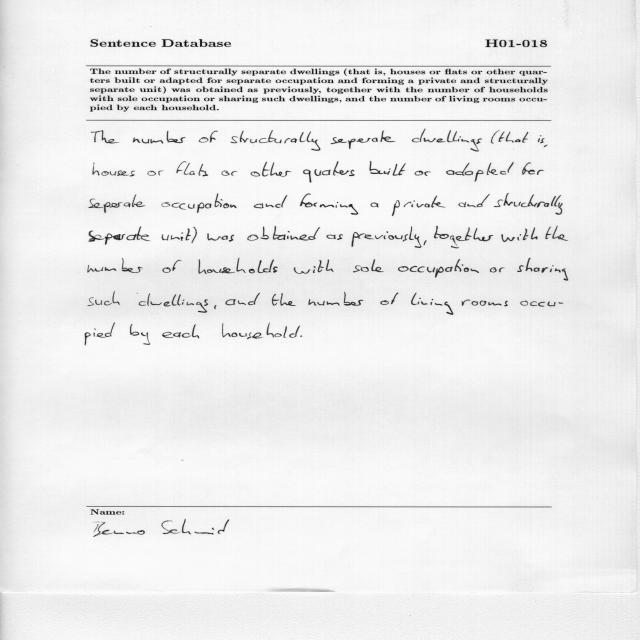word: (231, 130, 321, 151), (412, 129, 482, 151), (352, 226, 422, 248), (398, 259, 479, 278), (494, 193, 563, 215), (162, 193, 237, 213), (137, 293, 208, 313), (434, 226, 493, 248), (446, 162, 514, 181), (198, 258, 278, 274), (300, 193, 358, 215), (222, 323, 300, 339), (517, 258, 569, 281), (330, 131, 396, 149), (89, 226, 150, 245), (303, 161, 355, 183), (247, 226, 320, 241), (89, 194, 145, 213), (392, 196, 445, 216), (411, 293, 454, 315), (88, 258, 143, 273), (309, 292, 364, 306), (85, 323, 115, 346), (93, 162, 135, 177), (133, 131, 185, 143), (251, 162, 292, 177), (294, 259, 334, 274), (369, 161, 406, 176), (162, 324, 199, 339), (502, 227, 538, 242), (176, 161, 208, 177), (88, 292, 120, 306), (254, 195, 287, 208), (225, 293, 260, 305), (130, 324, 150, 345), (458, 194, 490, 207), (353, 260, 384, 273), (92, 130, 120, 144), (546, 226, 568, 241), (272, 293, 296, 306), (522, 162, 544, 175), (462, 300, 508, 306), (521, 301, 564, 307), (163, 260, 182, 273), (380, 292, 399, 305), (207, 233, 234, 242), (506, 132, 528, 143), (199, 131, 218, 143), (162, 232, 183, 241), (186, 227, 197, 243), (491, 131, 504, 144), (327, 234, 343, 240), (147, 171, 164, 176), (415, 171, 431, 176), (222, 171, 237, 176), (490, 268, 505, 273), (538, 136, 544, 144), (370, 203, 379, 208), (424, 241, 427, 246), (544, 145, 548, 147), (214, 305, 216, 309), (300, 336, 302, 337)
